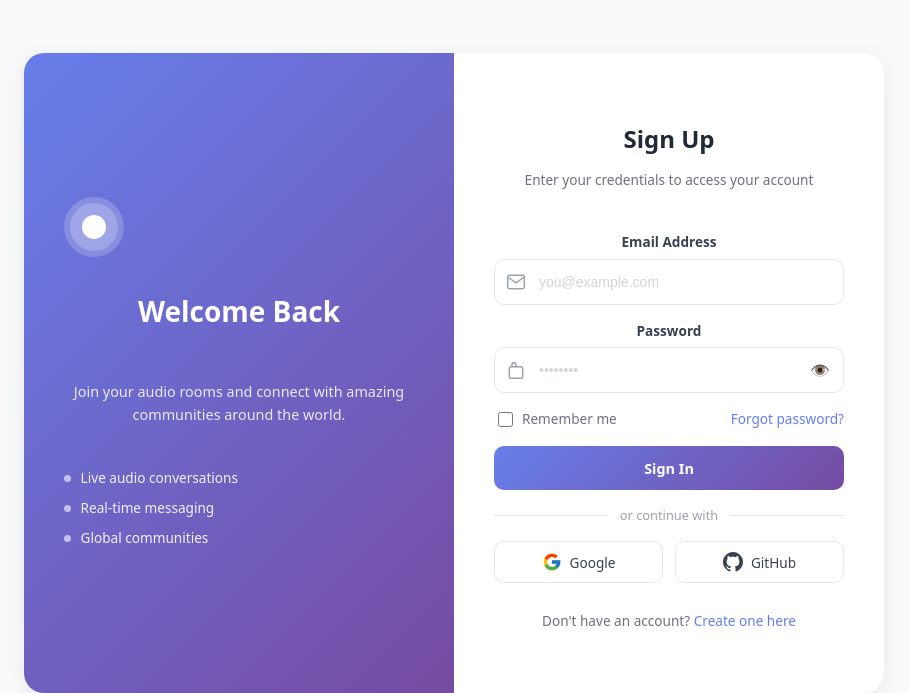
Test: <login /> › if return error with incorrect email pattern
The width and height of the screenshot is (909, 693).
Type "nkelechi21ailcom" into the field labelled "Email Address". click: (669, 282)
box: top-left (494, 259), bottom-right (844, 305)
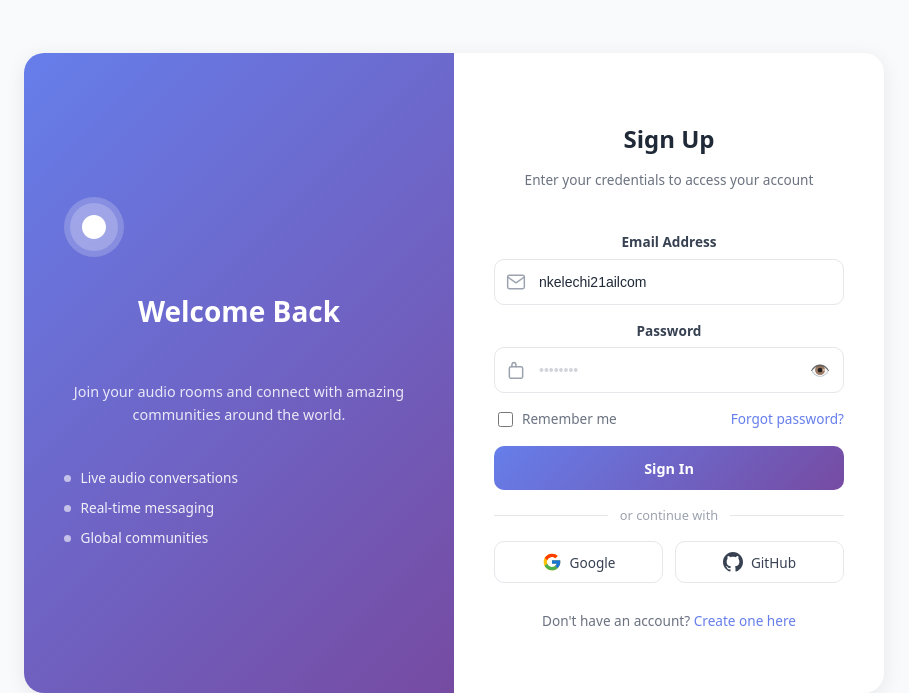
Type "Poiuytre101" into the password field labelled "Password". click: (669, 370)
box: top-left (494, 347), bottom-right (844, 393)
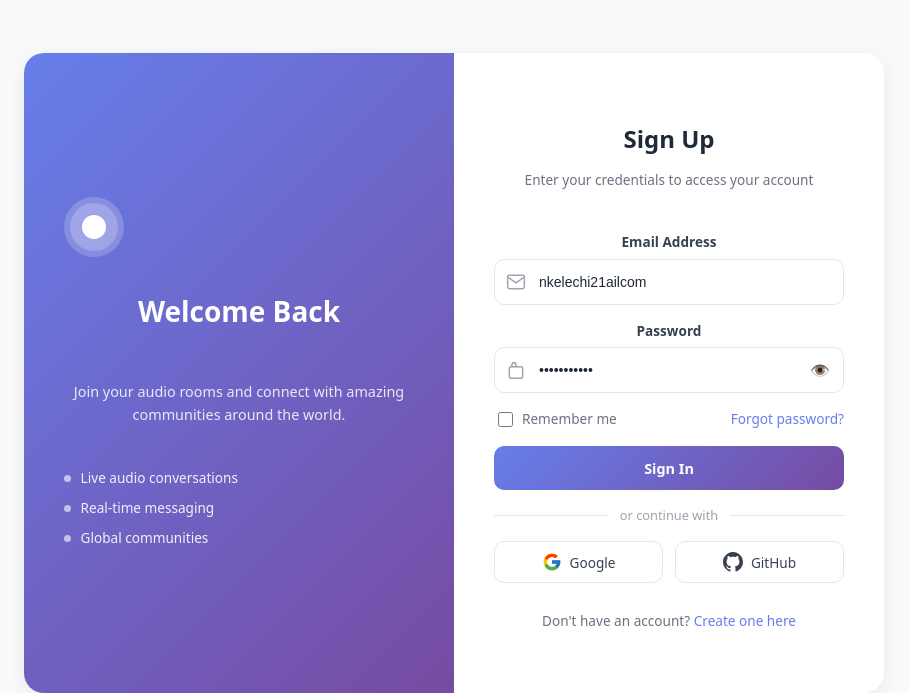
Click the button with test id "createaccount". click: (669, 468)
box: top-left (494, 446), bottom-right (844, 490)
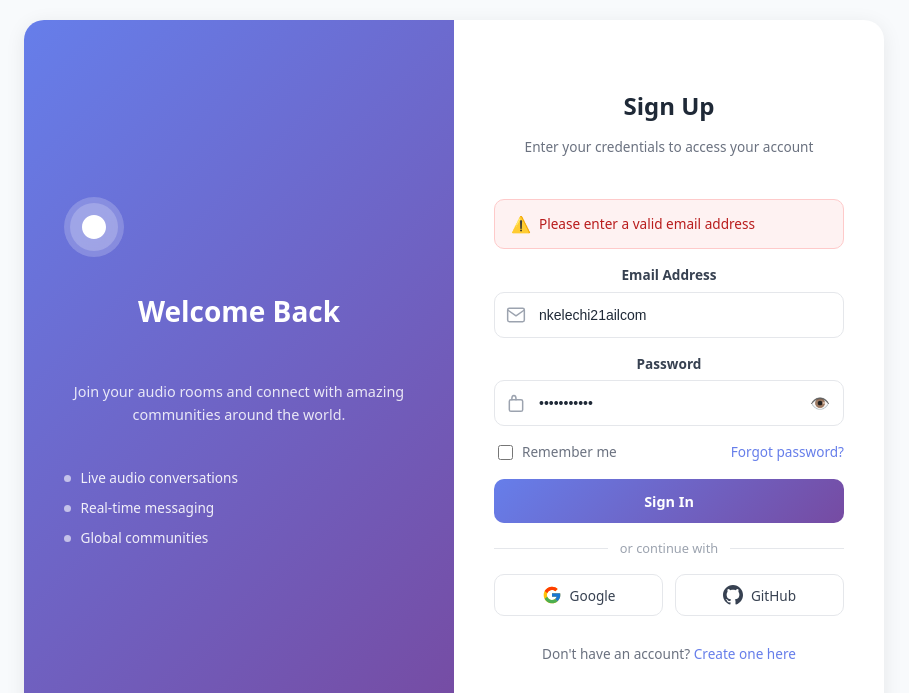
Now the text with test id "loginerr" reads "Please enter a valid email address", box top-left (539, 214), bottom-right (755, 233)
